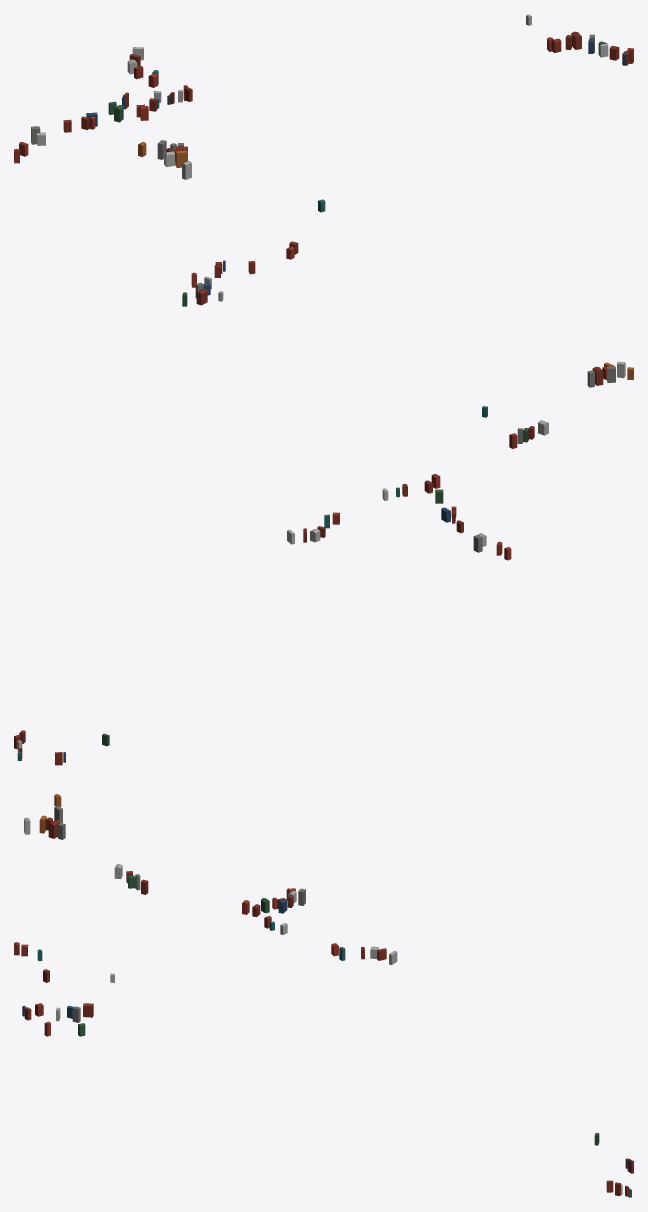
Rendered from near-15-27365-14875.e9662250.glb.
3 views of the same model, one above another, from view 1: azimuth 30°, elevation 25°; view 2: azimuth 150°, elevation 25°; view 3: azimuth 270°, elevation 25° (orthographic). The views are drawn at different scales.
Size of the model in its own units: 818 by 487 by 1005.
